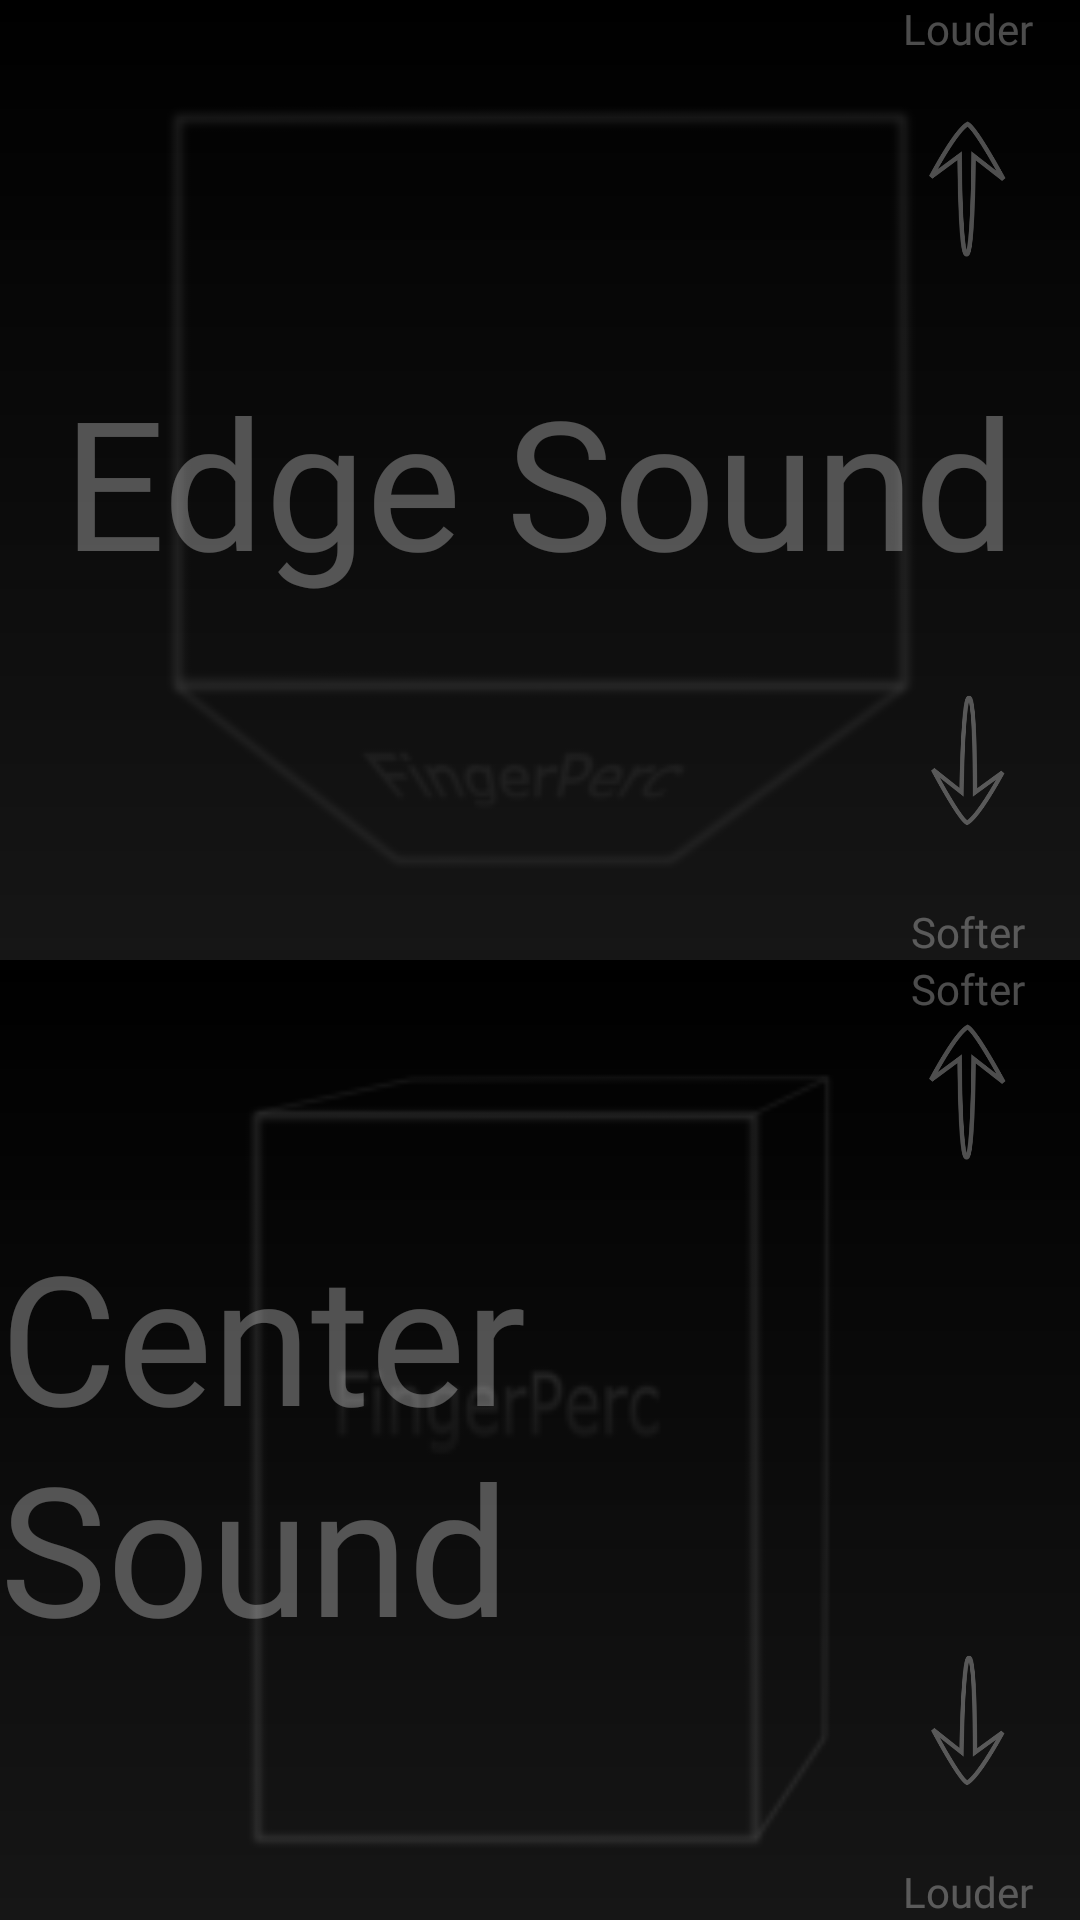

Named icons in this screenshot (1080w x 1920h) and their centers, [x,y]:
down arrow: [967,760], [967,1720]
